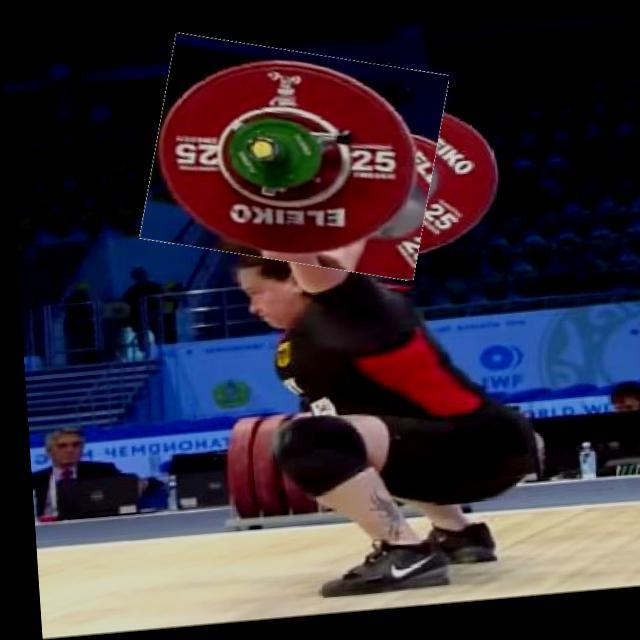barbell: (138, 34, 448, 292)
